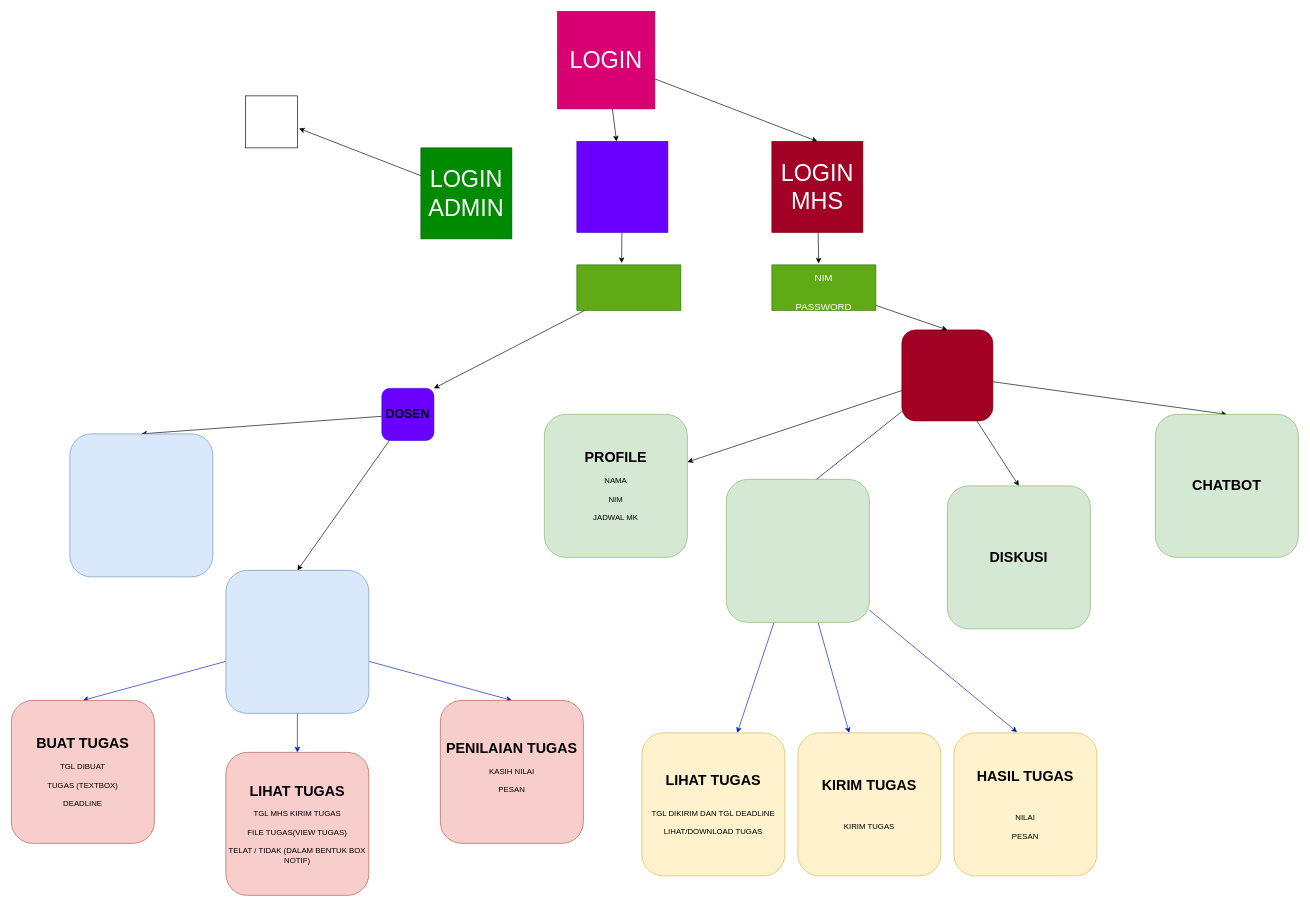
The diagram is 1310 pixels wide and 907 high, and some of its shapes have lost their labels. The centre of each missing label's shape, as x and y in pixels:
"ADMIN PANEL" belongs at (x=271, y=121).
"LOGIN DOSEN" belongs at (x=622, y=186).
"MAHASISWA" belongs at (x=947, y=375).
"NIDN PASSWORD" belongs at (x=628, y=287).
"PROFILE NAMA NIDN JADWAL MK" belongs at (x=141, y=505).
"TUGAS BUAT TUGAS LIHAT TUGAS PENILAIAN" belongs at (x=297, y=641).
"TUGAS LIHAT TUGAS KIRIM TUGAS HASIL" belongs at (x=797, y=550).
